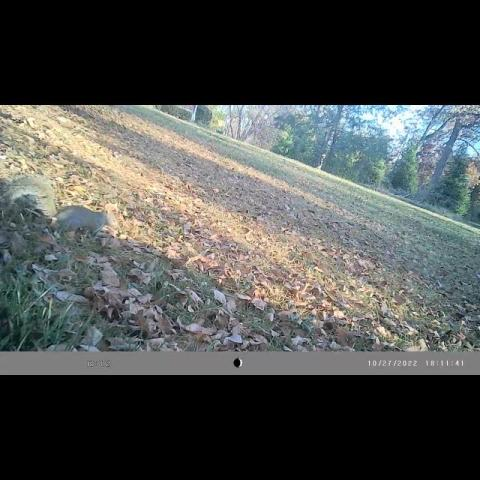small_animal: (0, 174, 119, 240)
